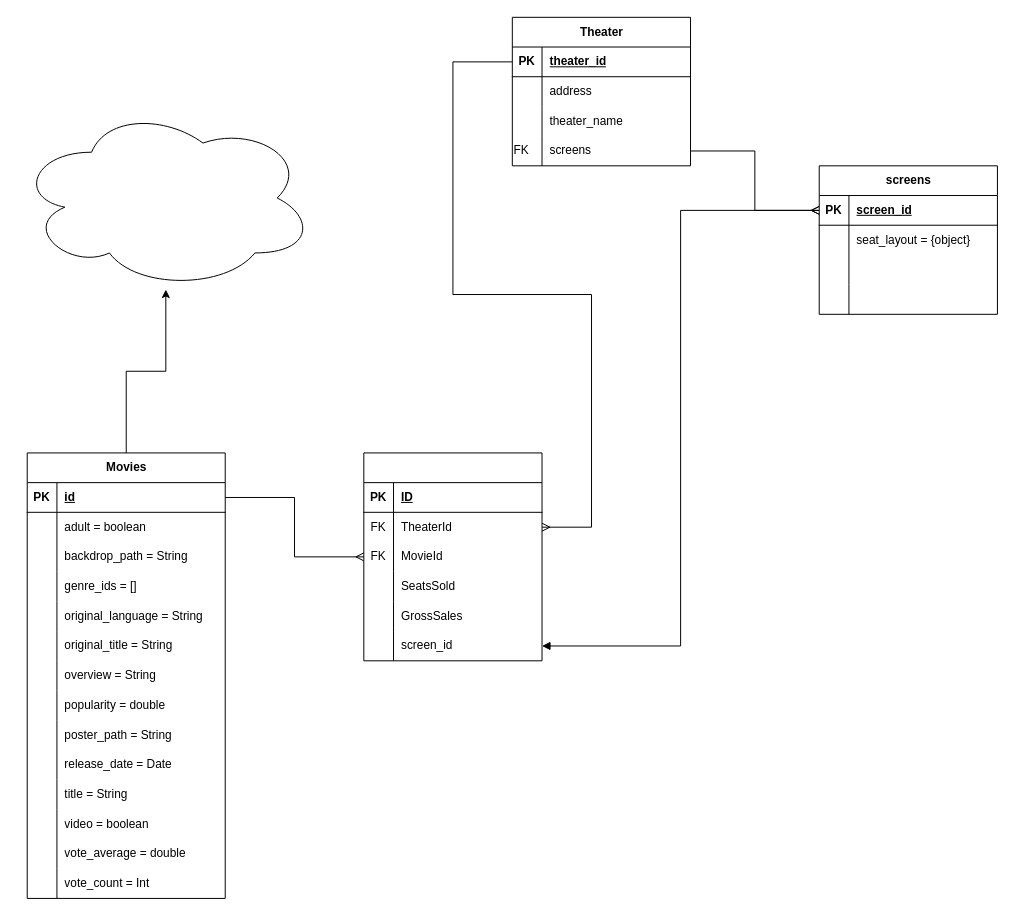
Image size: 1015x916. Some labels were removed from this diagram. Each missing label, with the box of its shape:
Comes from The MovieDB: (16, 105, 314, 290)
Showtimes: (363, 452, 542, 661)
